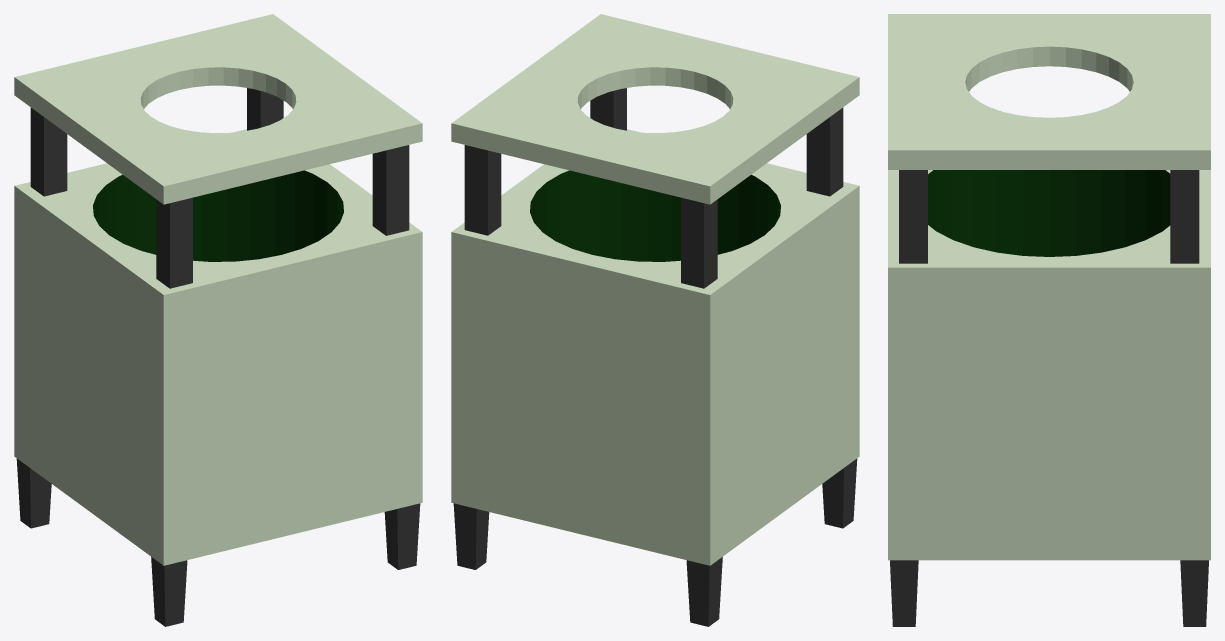
File: TrashCan.fbx
3 views of the same model, side by side, from view 1: azimuth 30°, elevation 25°; view 2: azimuth 150°, elevation 25°; view 3: azimuth 270°, elevation 25° (orthographic). The views are drawn at different scales.
Parts seen in each view (by area): view 1: Cylinder.003; view 2: Cylinder.003; view 3: Cylinder.003.
Part boxes in pixels (x1,y1,x2,y2): Cylinder.003: (14,14,422,626); Cylinder.003: (451,14,859,626); Cylinder.003: (888,14,1210,626).
Size of the model in its own units: 200 by 327 by 200.
